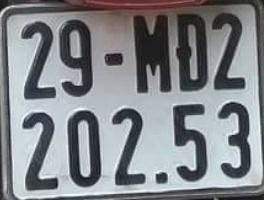-: (104, 52, 123, 67), (155, 170, 169, 185)
0: (66, 107, 103, 187)
2: (109, 106, 149, 186), (21, 112, 61, 189), (213, 10, 249, 91), (22, 20, 57, 99)
3: (216, 99, 252, 179)
5: (171, 102, 208, 180)
9: (58, 18, 95, 100)
D: (175, 11, 210, 91)
M: (134, 13, 173, 95)
